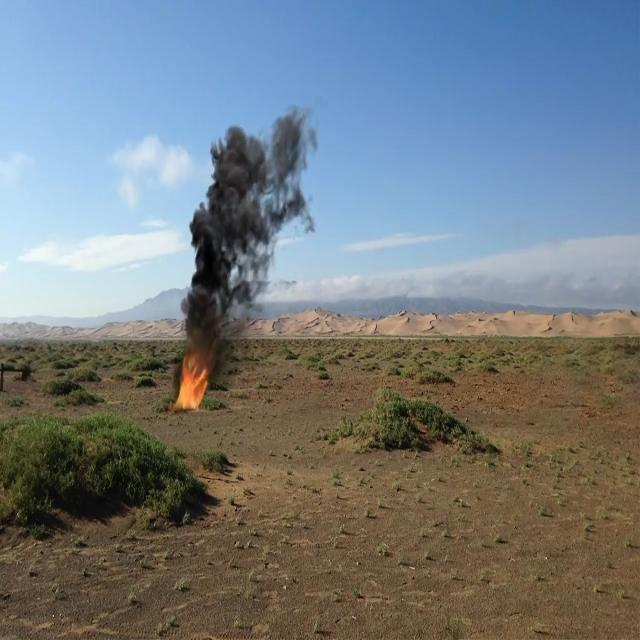Fire: (180, 364, 210, 410)
Smoke: (198, 119, 268, 349)
